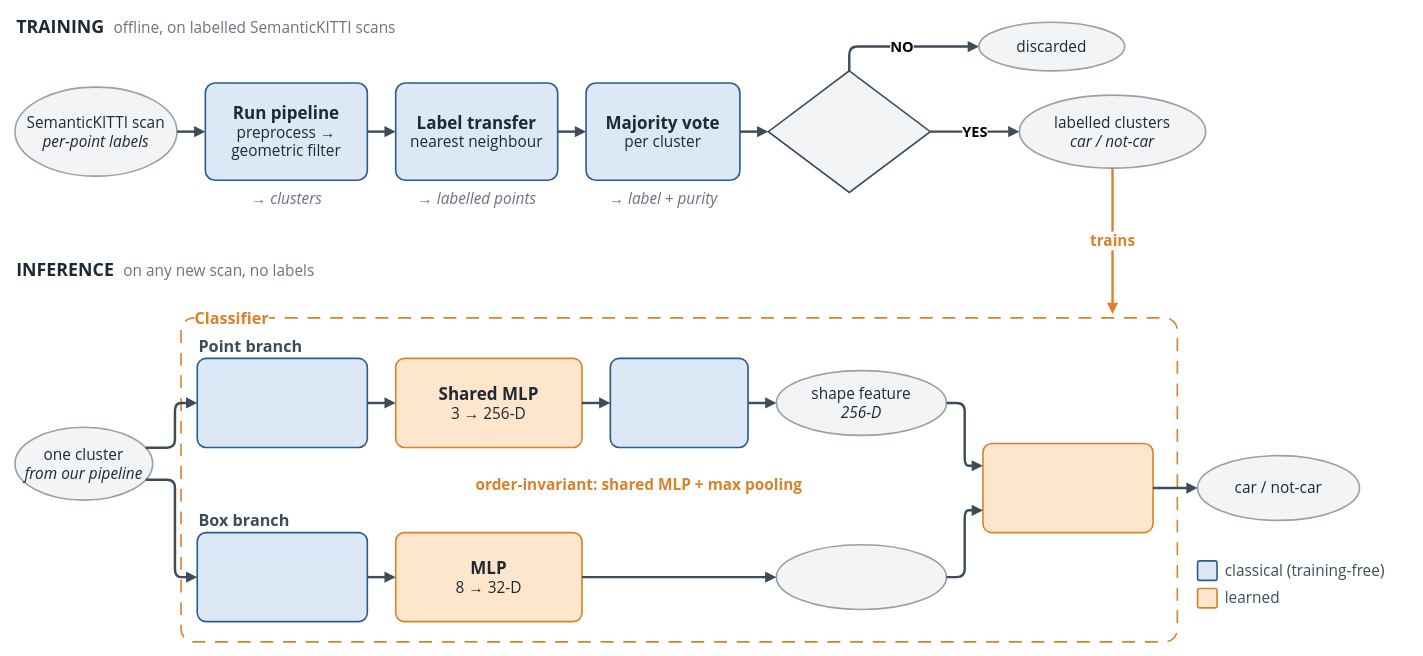
This 1423x656 diagram has some shape labels left out. The centre of each missing label's shape, as x and y in pixels:
"Classification head" belongs at (x=1067, y=487).
"Max pooling per feature" belongs at (x=678, y=402).
"Normalise 512 points, unit sphere" belongs at (x=282, y=402).
"OBB features extents, volume, aspect ratio, ..." belongs at (x=282, y=576).
"purity ≥ 75%" belongs at (x=849, y=131).
"size feature 32-D" belongs at (x=861, y=577).
